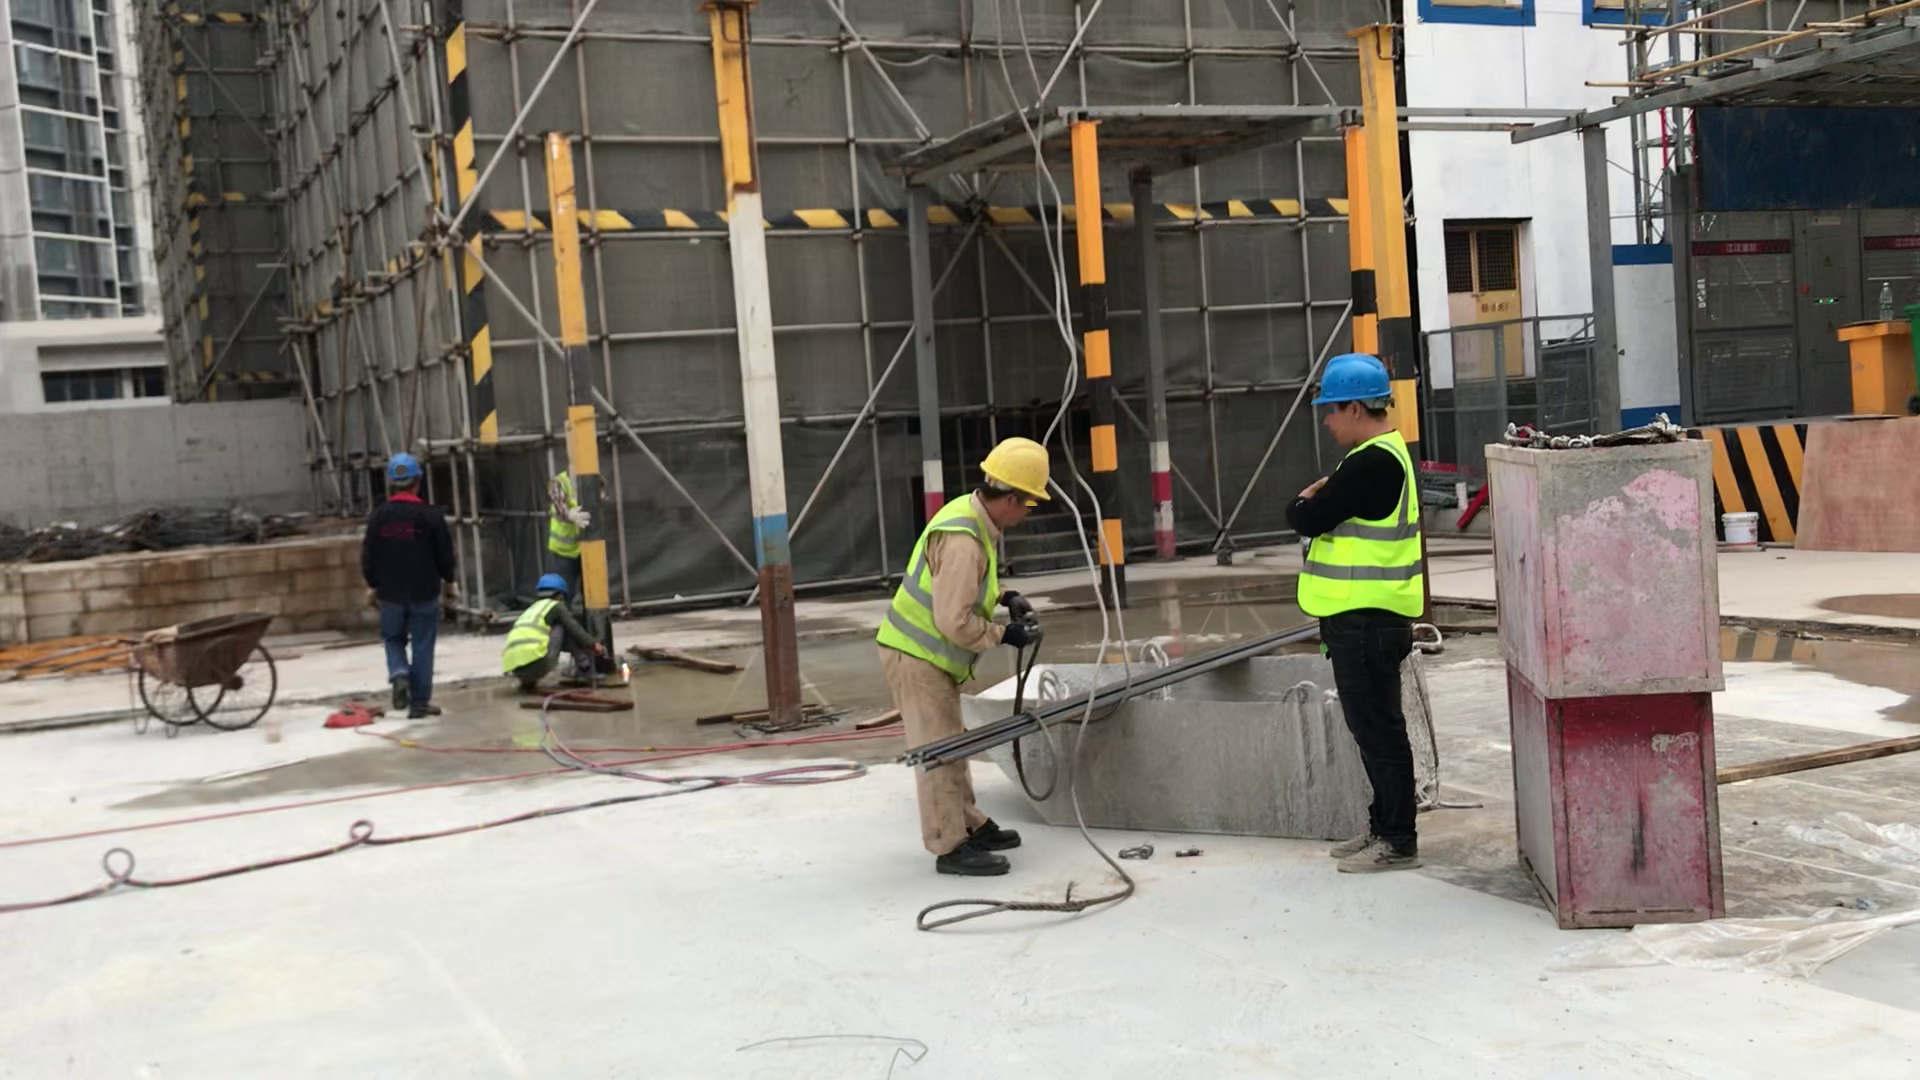handcart: (98, 607, 294, 743)
helmet: (969, 427, 1061, 507), (1305, 346, 1401, 415), (378, 449, 432, 481), (527, 565, 577, 596)
hopper: (945, 607, 1460, 861)
person: (878, 426, 1075, 920), (1283, 351, 1461, 891), (348, 446, 477, 750), (494, 565, 623, 765), (543, 461, 604, 580)
rebar: (900, 620, 1318, 787)
vest: (1291, 430, 1444, 638), (878, 493, 999, 699), (499, 593, 571, 688), (543, 461, 593, 559)
